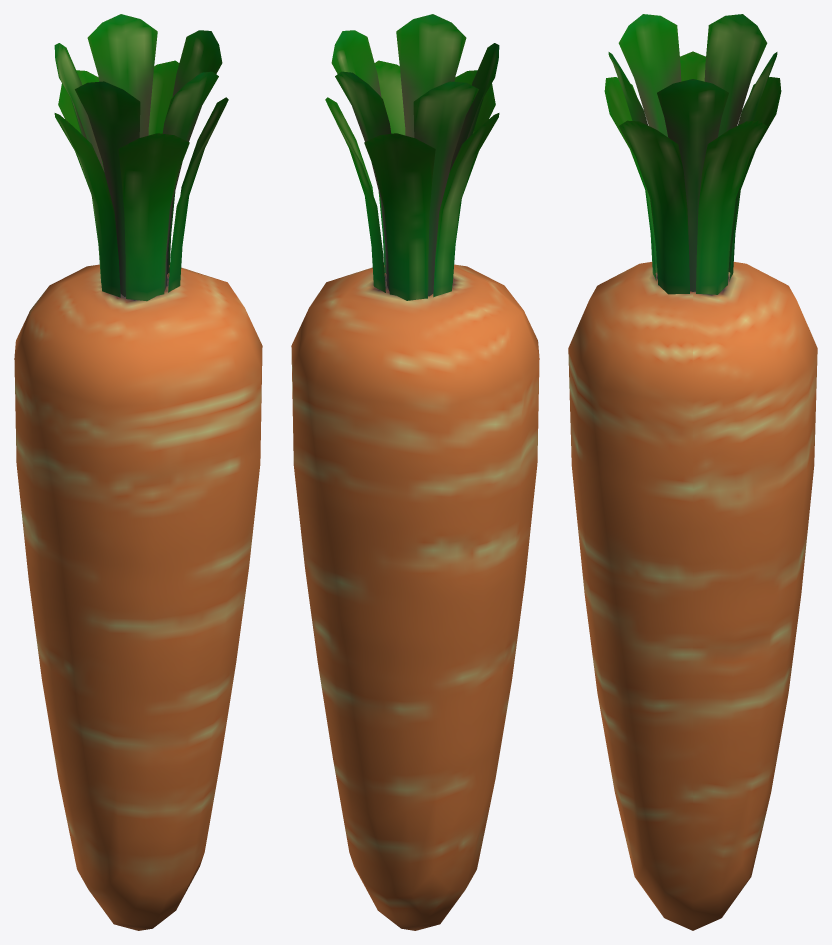
File: Carrot.fbx
3 views of the same model, side by side, from view 1: azimuth 30°, elevation 25°; view 2: azimuth 150°, elevation 25°; view 3: azimuth 270°, elevation 25° (orthographic).
Visible parts, largest first — view 1: NN_CaRot1; view 2: NN_CaRot1; view 3: NN_CaRot1.
Part boxes in pixels (x1,y1,x2,y2): NN_CaRot1: (14, 14, 262, 930); NN_CaRot1: (291, 14, 539, 930); NN_CaRot1: (568, 14, 817, 930).
Size of the model in its own units: 9.9 by 38.9 by 9.9.
